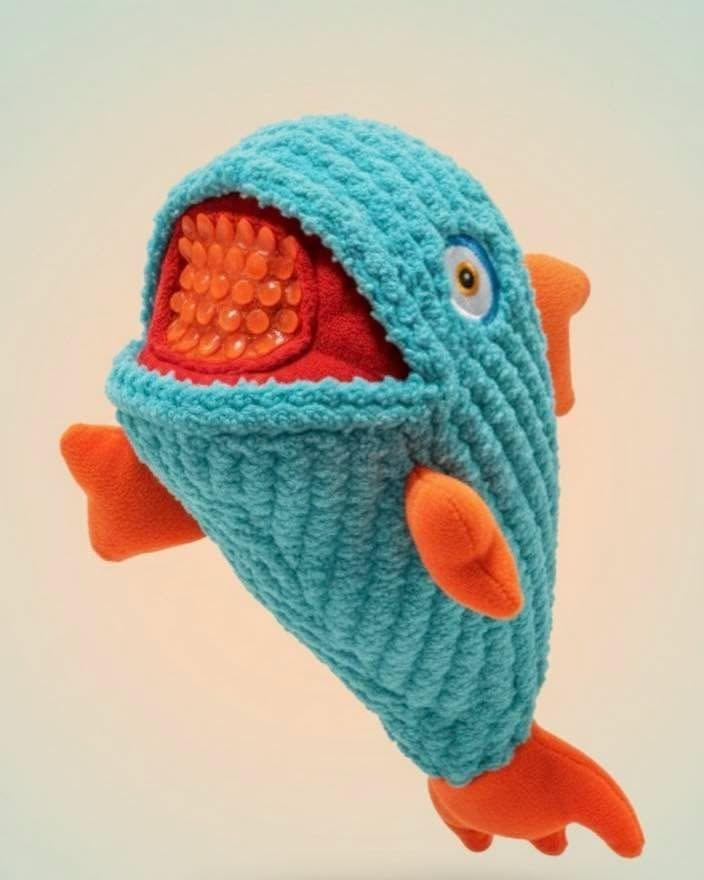non-dog: (61, 99, 653, 860)
